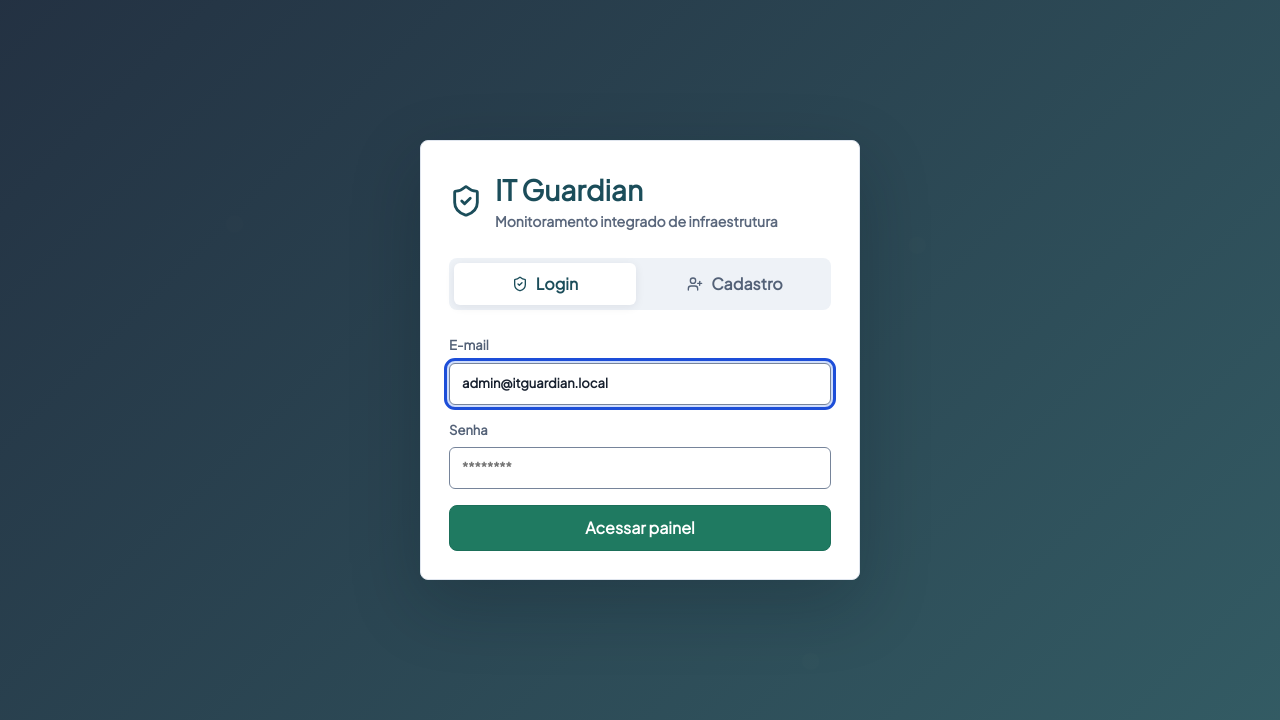
Scenario: identidade no app › deslogado em /conta/seguranca vai ao login e volta depois de entrar
The image size is (1280, 720).
Click the button "Acessar painel" at (640, 528), box [449,505,831,551]
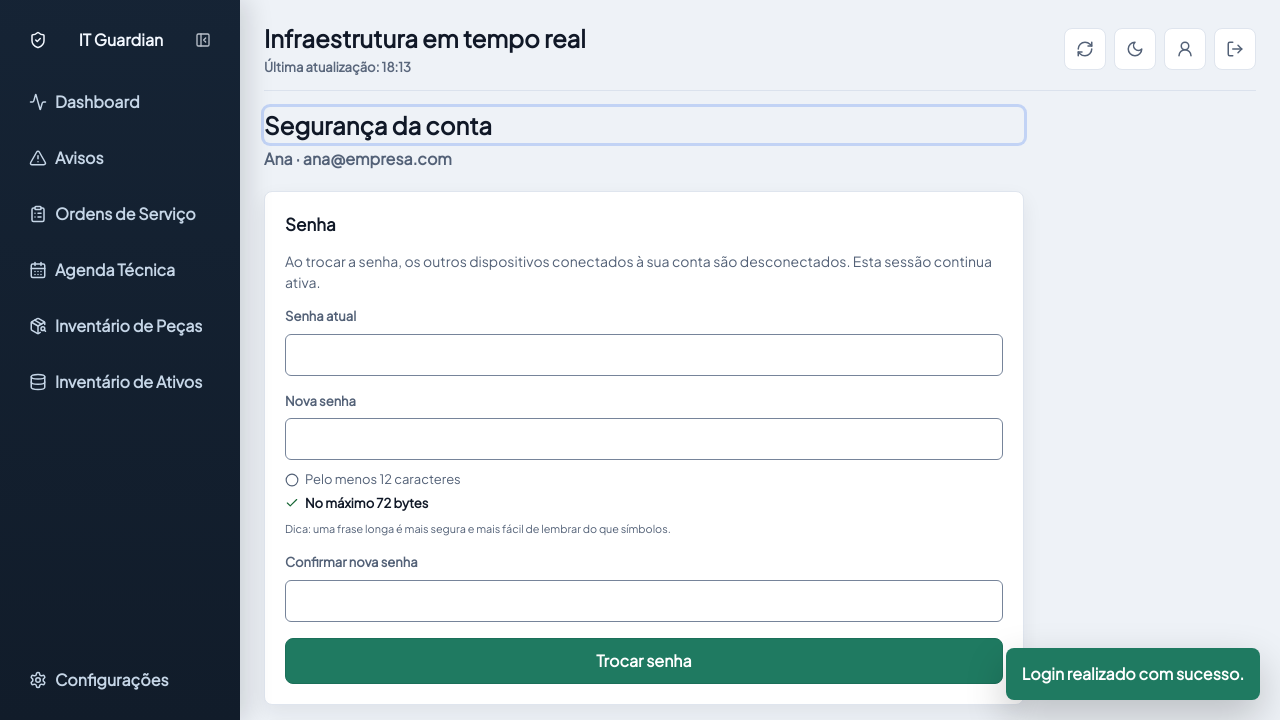
Expected: the heading "Segurança da conta" is shown, [264,106,1024,142]
